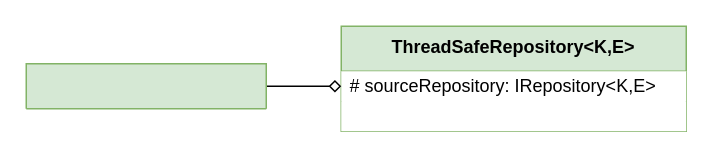
The diagram is 713 pixels wide and 158 high, and some of its shapes have lost their labels. Here are the shapes that lost their labels. From the top down, the centre of each, then its label:
At (145,85): "IRepository<K,E>".
At (513,115): "# lock: ReentrantReadWriteLock".
